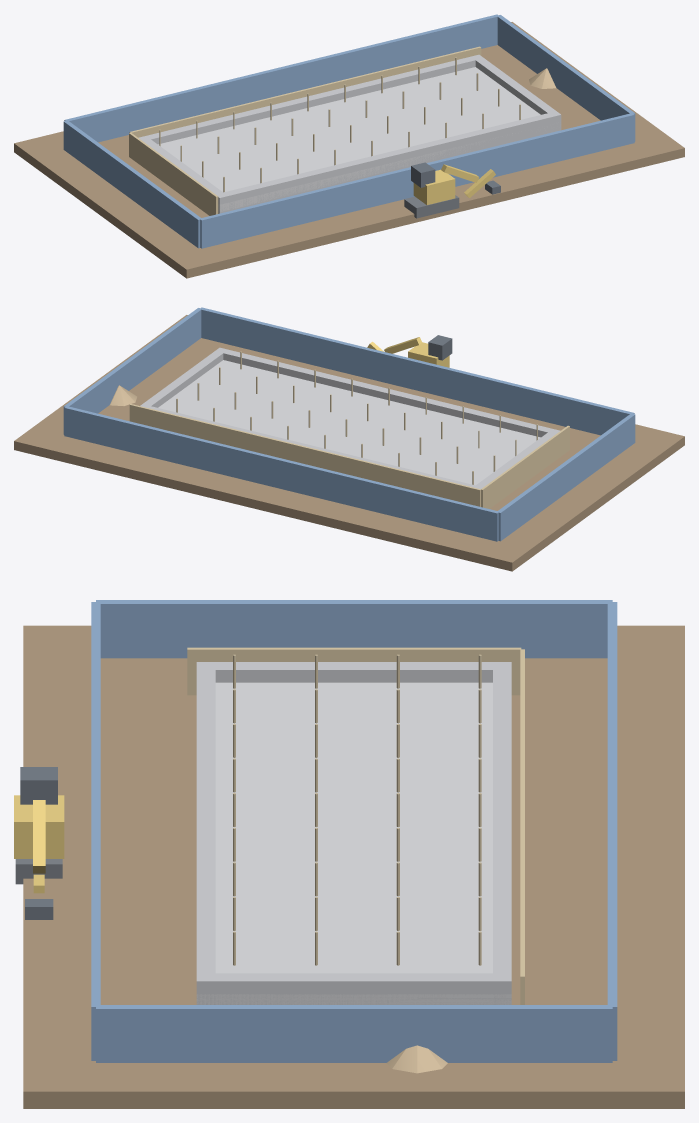
The model's file is num-f-site.glb.
3 renders of one model, top to bottom at view 1: azimuth 30°, elevation 25°; view 2: azimuth 150°, elevation 25°; view 3: azimuth 270°, elevation 25°, orthographic. The views are drawn at different scales.
Bounding box in the file's own units: 35 × 3.4 × 21.3.
